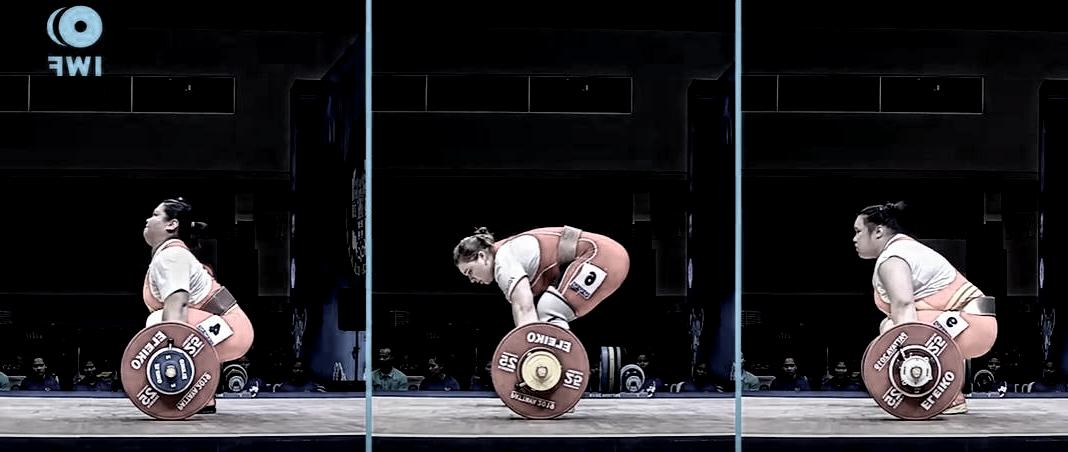Barbell: (906, 363, 926, 381), (162, 363, 179, 382), (531, 364, 550, 381)
